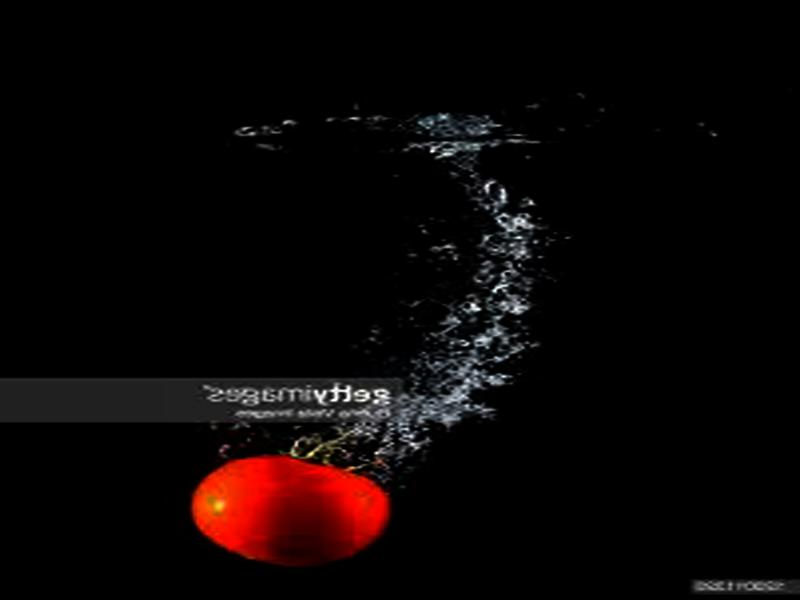Tomato: (190, 454, 393, 562)
